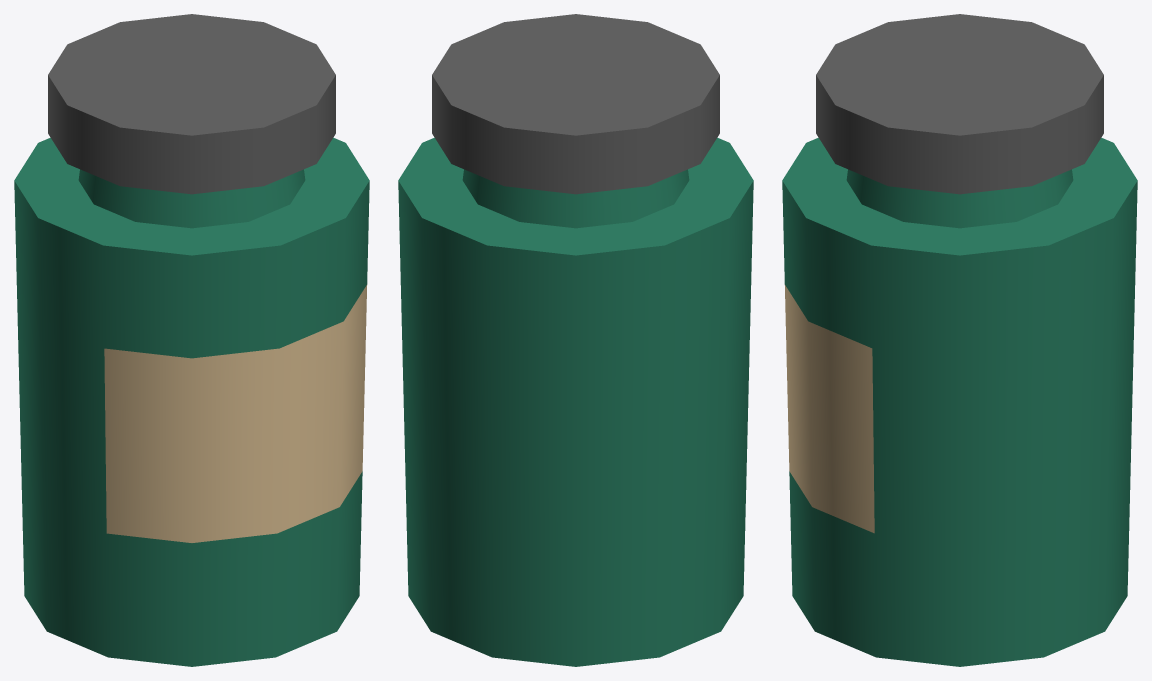
The model's file is flask1.fbx.
3 renders of one model, left to right at view 1: azimuth 30°, elevation 25°; view 2: azimuth 150°, elevation 25°; view 3: azimuth 270°, elevation 25°, orthographic.
Parts seen in each view (by area): view 1: flask1; view 2: flask1; view 3: flask1.
Part boxes in pixels (x1,y1,x2,y2): flask1: (14,14,369,666); flask1: (398,14,753,666); flask1: (782,14,1137,666).
Size of the model in its own units: 0.2512 by 0.4064 by 0.2512.
